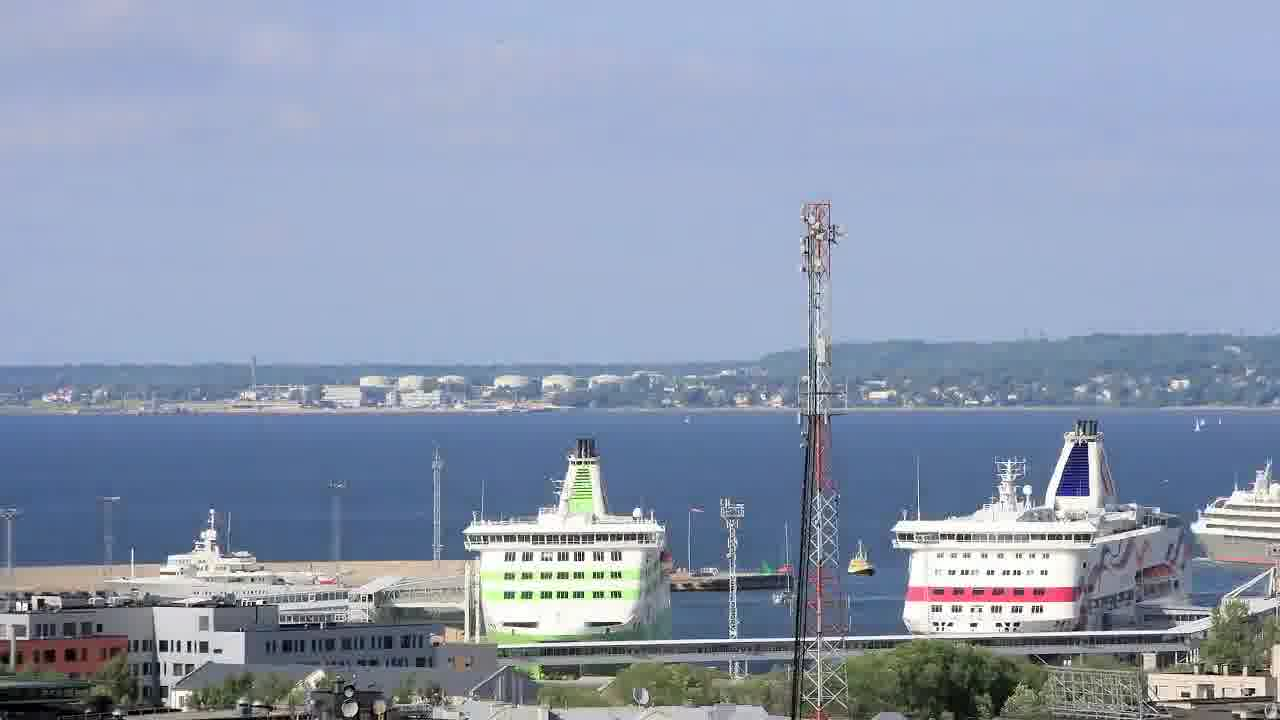type-0: (841, 535, 882, 590)
type-3: (868, 415, 1225, 638), (436, 434, 694, 670), (97, 527, 346, 608), (1191, 458, 1280, 607)
